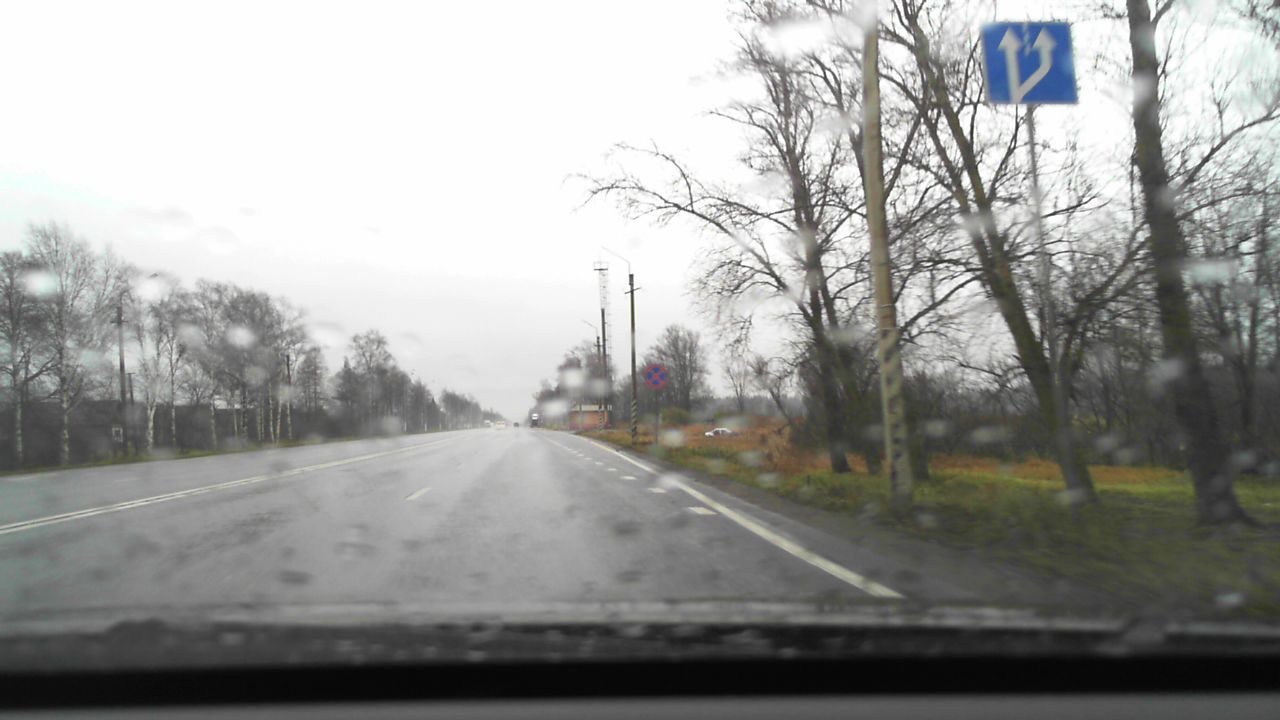No Parking: (643, 363, 667, 388)
